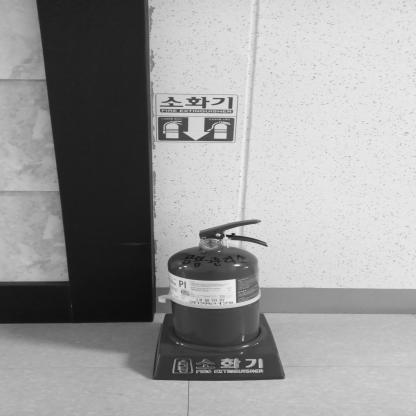FE: (157, 219, 284, 380)
